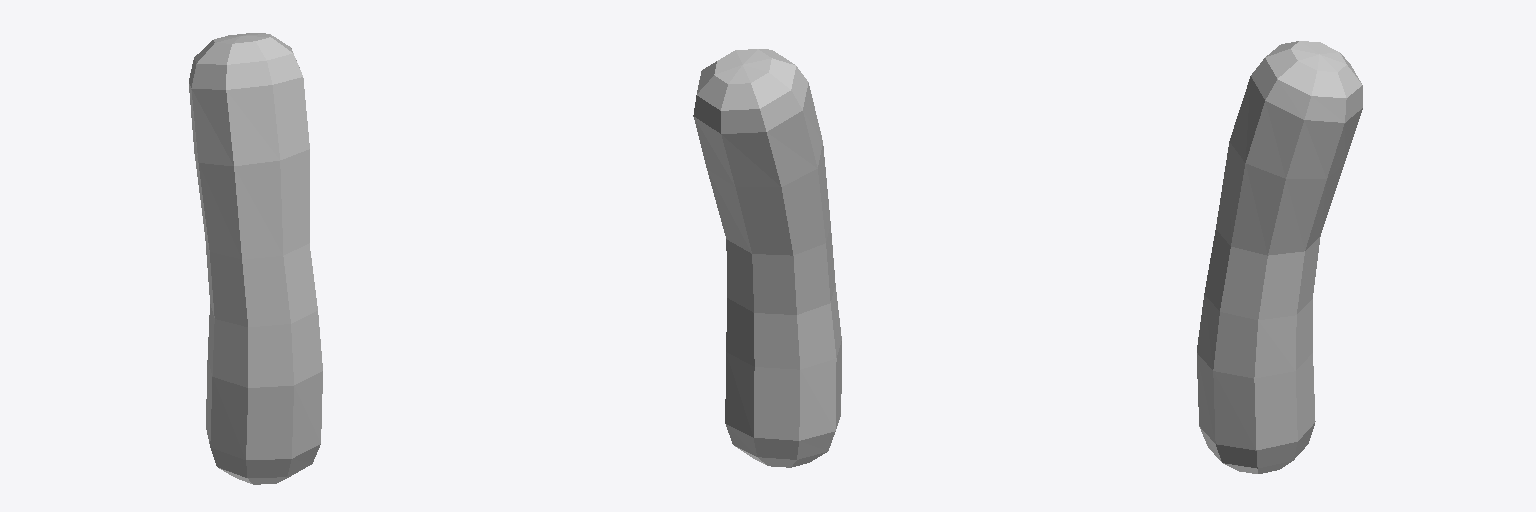
The model's file is Pickle_Topping.obj.
3 renders of one model, left to right at view 1: azimuth 30°, elevation 25°; view 2: azimuth 150°, elevation 25°; view 3: azimuth 270°, elevation 25°, orthographic.
Parts seen in each view (by area): view 1: Pickle; view 2: Pickle; view 3: Pickle.
Boxes of the visible parts, <box> form: Pickle: <box>189,33,322,484</box>; Pickle: <box>693,49,841,467</box>; Pickle: <box>1197,41,1362,473</box>.
Size of the model in its own units: 3.06 by 10.82 by 3.9.